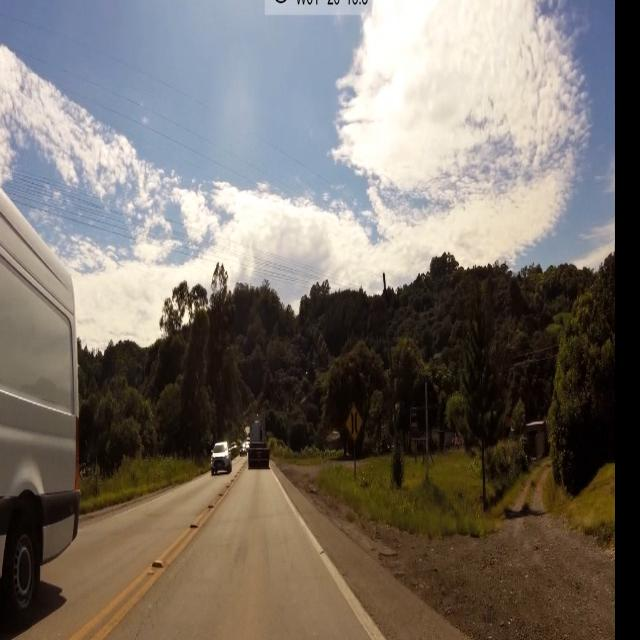A-22: (347, 406, 363, 439)
